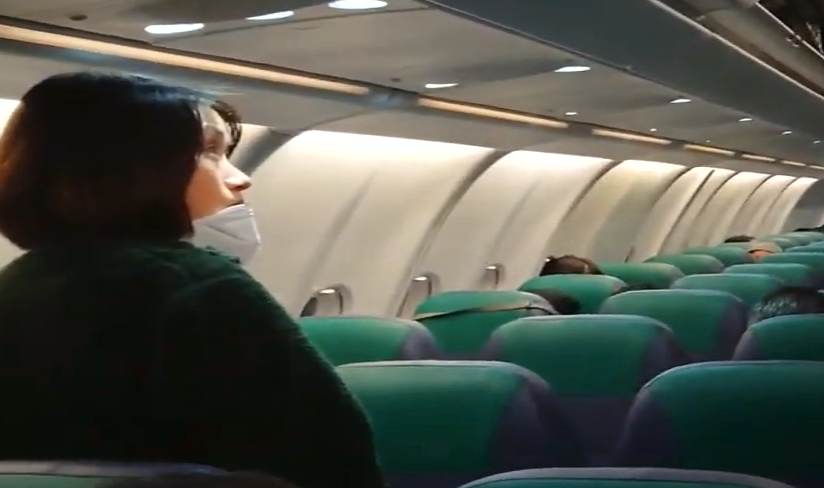mask_weared_incorrect: (94, 68, 266, 265)
